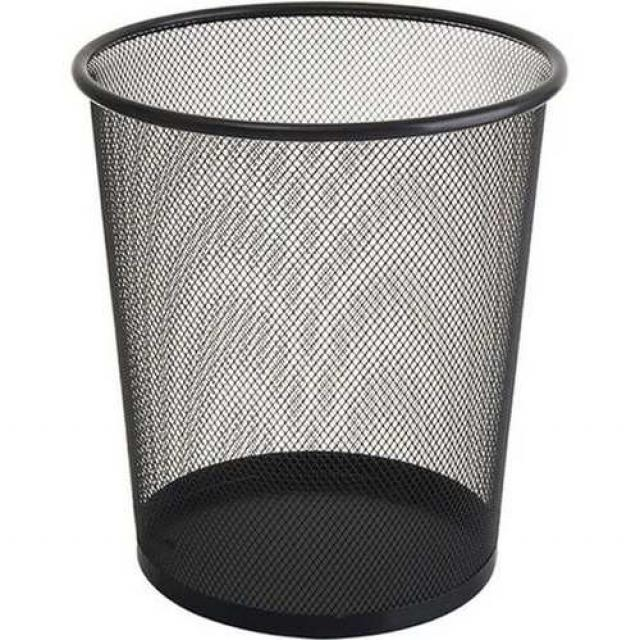Dustbin: (70, 2, 569, 638)
